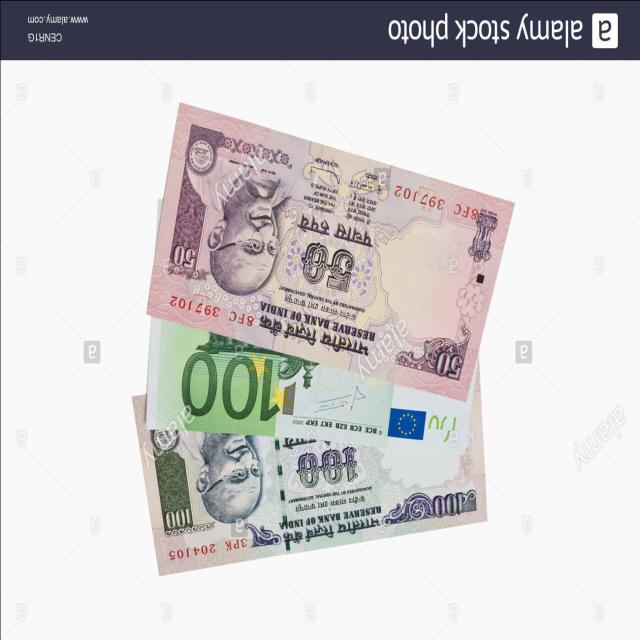100IndianRupees: (130, 398, 484, 580)
